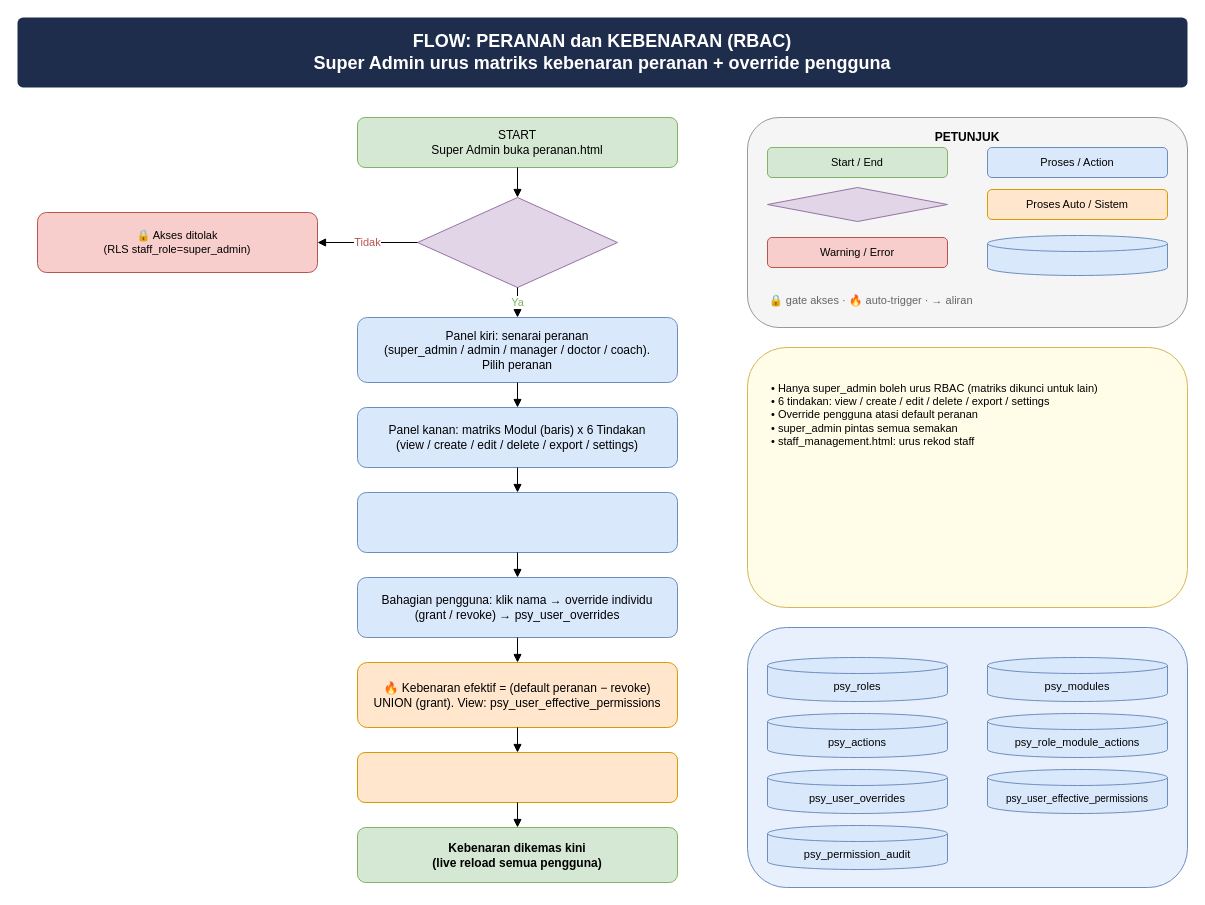
Some shapes in this 1205 by 905 pixel diagram are drawn without their labels. Here are the shapes that lost their labels. From the top down, the box of each, then its label:
(766, 186, 948, 222): Keputusan / Decision
(416, 196, 618, 288): Adakah super_admin?
(986, 234, 1168, 276): Database
(746, 346, 1188, 608): NOTA PENTING
(356, 492, 678, 552): Klik sel: benarkan / tolak / tak berkenaan. Simpan → psy_role_module_actions
(356, 752, 678, 802): 🔥 Setiap perubahan dilog → psy_permission_audit
(746, 626, 1188, 888): JADUAL / DATA TERLIBAT
